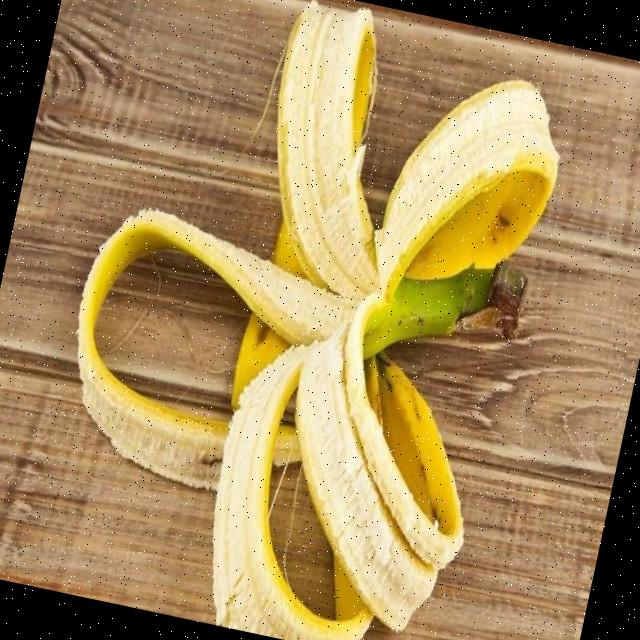banana-peel: (18, 0, 583, 640)
